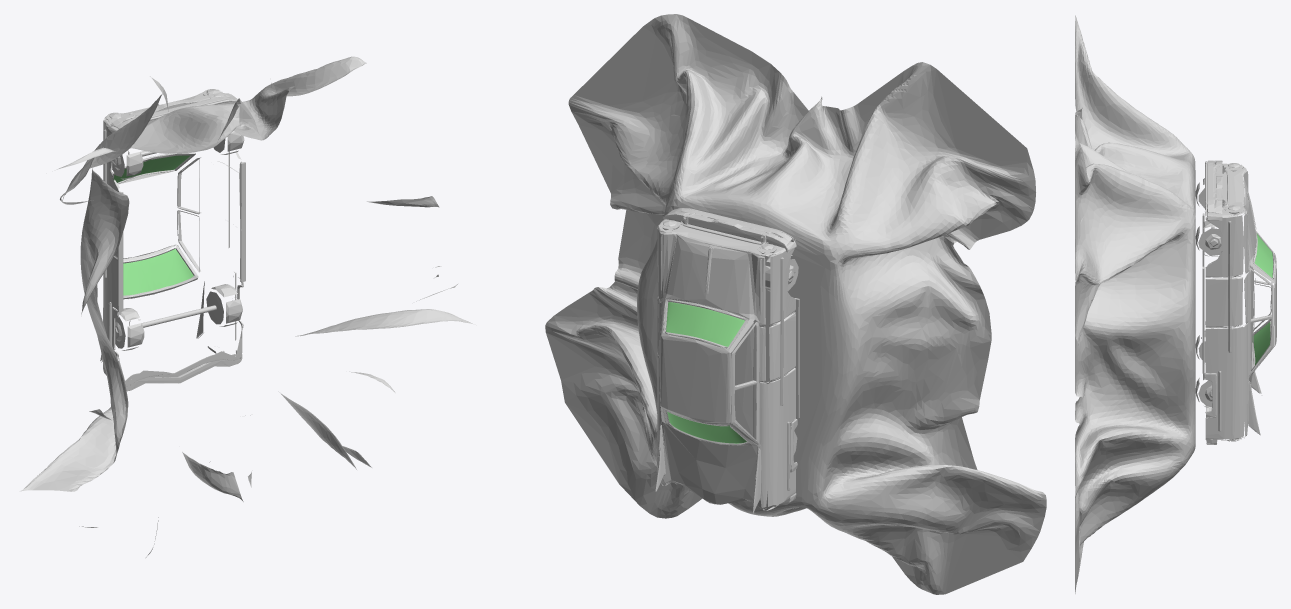
Rendered from ToyCar.glb.
3 renders of one model, left to right at view 1: azimuth 30°, elevation 25°; view 2: azimuth 150°, elevation 25°; view 3: azimuth 270°, elevation 25°, orthographic. The views are drawn at different scales.
Visible parts, largest first — view 1: Fabric, ToyCar, Glass; view 2: Fabric, ToyCar, Glass; view 3: Fabric, ToyCar, Glass.
Boxes of the visible parts, x1=… form: Fabric: x1=19, y1=56, x2=472, y2=557; ToyCar: x1=100, y1=89, x2=245, y2=391; Glass: x1=113, y1=155, x2=193, y2=295; Fabric: x1=545, y1=14, x2=1046, y2=594; ToyCar: x1=655, y1=208, x2=799, y2=513; Glass: x1=666, y1=302, x2=746, y2=443; Fabric: x1=1075, y1=15, x2=1195, y2=593; ToyCar: x1=1195, y1=160, x2=1276, y2=444; Glass: x1=1252, y1=233, x2=1273, y2=364.
Size of the model in its own units: 734 by 740 by 288.
